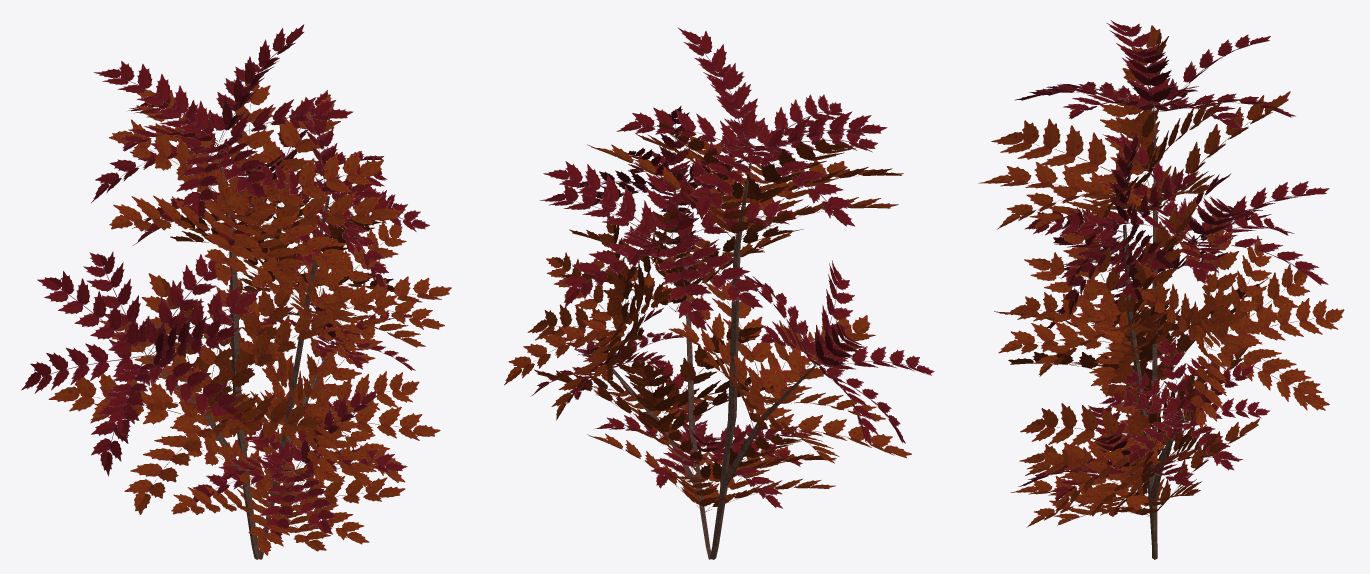
The model's file is hiiraginanten_nocolor.fbx.
3 renders of one model, left to right at view 1: azimuth 30°, elevation 25°; view 2: azimuth 150°, elevation 25°; view 3: azimuth 270°, elevation 25°, orthographic. The views are drawn at different scales.
Parts seen in each view (by area): view 1: 235.030, 236.015, 235.037, 236.009, 235.031, 235.002, 235.001, 236.001, 236.006, 236.011, 235.032, 立方体 (+2 smaller); view 2: 236.011, 236.009, 235.037, 235.032, 235.030, 236.015, 235.031, 235.002, 236.001, 235.001, 立方体, 236.006 (+2 smaller); view 3: 235.030, 235.032, 235.001, 235.031, 236.011, 236.009, 236.006, 236.010, 235.002, 235.037, 236.001, 立方体.001 (+2 smaller).
Part boxes in pixels (<box>): 235.030: <box>109,65,403,285</box>; 236.015: <box>21,250,258,476</box>; 235.037: <box>48,273,335,514</box>; 236.009: <box>91,24,353,218</box>; 235.031: <box>226,288,440,487</box>; 235.002: <box>171,382,405,555</box>; 235.001: <box>213,193,451,353</box>; 236.001: <box>188,389,407,538</box>; 236.006: <box>247,111,429,289</box>; 236.011: <box>132,90,386,250</box>; 235.032: <box>170,196,394,292</box>; 立方体: <box>147,144,260,559</box>; 236.011: <box>539,135,796,330</box>; 236.009: <box>616,27,887,226</box>; 235.037: <box>668,277,911,463</box>; 235.032: <box>504,215,673,420</box>; 235.030: <box>587,122,903,241</box>; 236.015: <box>734,260,934,446</box>; 235.031: <box>534,325,795,439</box>; 235.002: <box>587,418,836,512</box>; 236.001: <box>593,358,811,508</box>; 235.001: <box>561,209,803,311</box>; 立方体: <box>709,163,815,559</box>; 236.006: <box>577,106,743,232</box>; 235.030: <box>978,25,1290,229</box>; 235.032: <box>1141,213,1344,429</box>; 235.001: <box>998,197,1244,396</box>; 235.031: <box>1020,311,1248,516</box>; 236.011: <box>1077,132,1329,285</box>; 236.009: <box>1014,20,1295,129</box>; 236.006: <box>1024,132,1198,318</box>; 236.010: <box>1099,334,1270,470</box>; 235.002: <box>1010,368,1259,527</box>; 235.037: <box>994,277,1269,390</box>; 236.001: <box>1018,402,1243,501</box>; 立方体.001: <box>1123,224,1184,559</box>.
Size of the model in its own units: 78.66 by 105 by 68.15.
3 materials, 3 textured.
